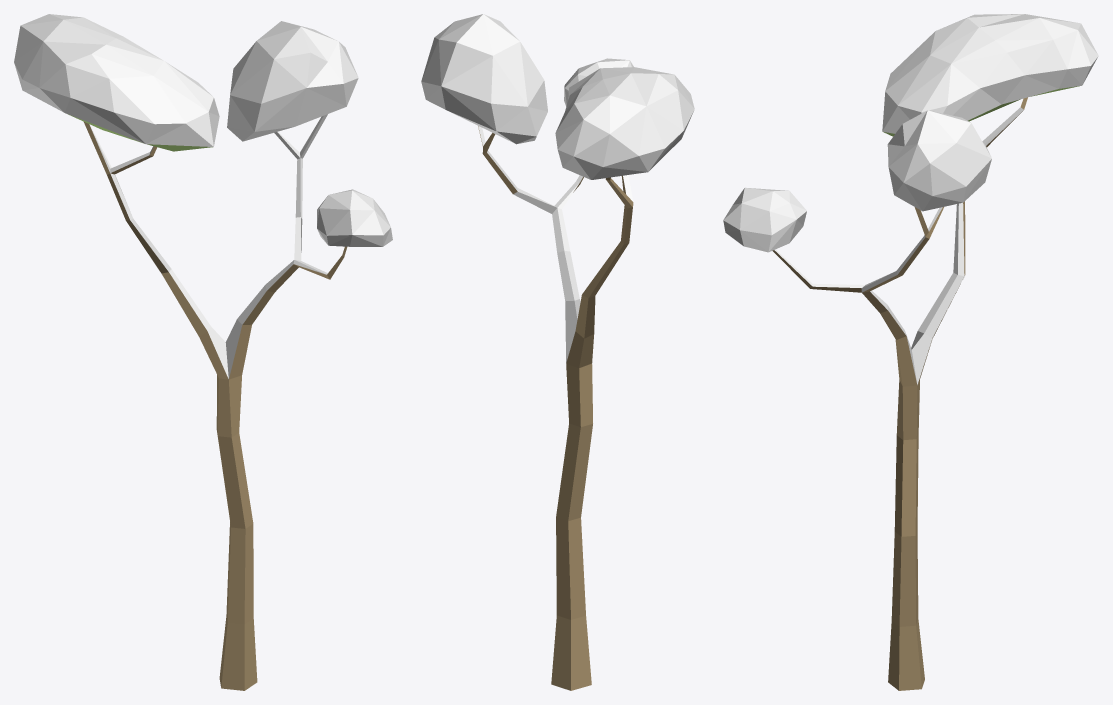
The model's file is Acacia_Tree_s_Snow_BT_02.fbx.
The picture shows the model from 3 angles, left to right: view 1: azimuth 30°, elevation 25°; view 2: azimuth 150°, elevation 25°; view 3: azimuth 270°, elevation 25°; orthographic projection. The views are drawn at different scales.
Visible parts, largest first — view 1: Acacia_Tree_s_Snow_BT_02; view 2: Acacia_Tree_s_Snow_BT_02; view 3: Acacia_Tree_s_Snow_BT_02.
Part boxes in pixels (left/top/right/bottom): Acacia_Tree_s_Snow_BT_02: left=14, top=14, right=392, bottom=690; Acacia_Tree_s_Snow_BT_02: left=421, top=14, right=694, bottom=690; Acacia_Tree_s_Snow_BT_02: left=723, top=14, right=1098, bottom=690.
Size of the model in its own units: 301 by 667 by 368.
